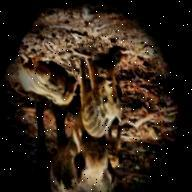boar: (64, 41, 138, 144)
